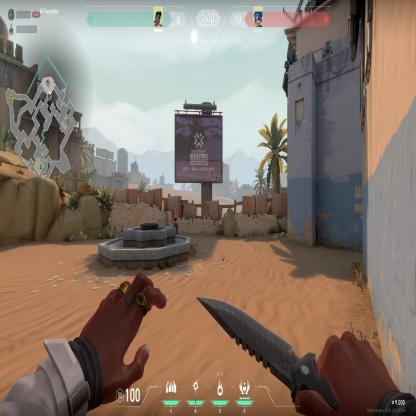enemy: (172, 205, 178, 227)
